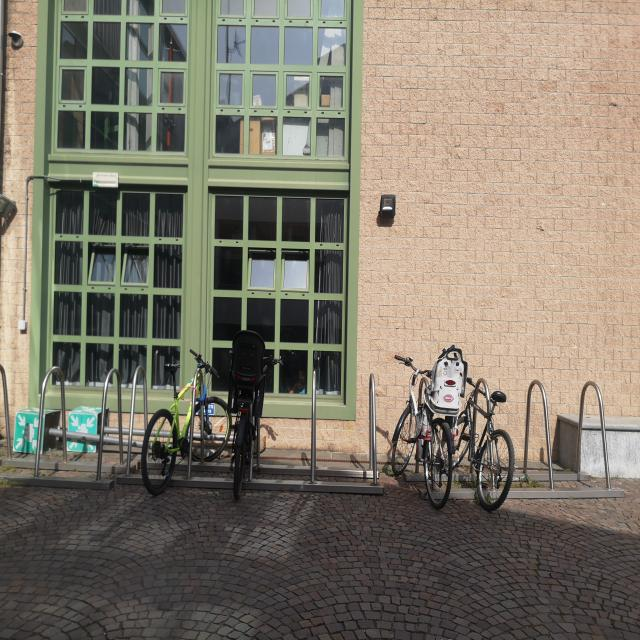Bicycle: (144, 339, 228, 499), (226, 342, 299, 503), (394, 349, 466, 498), (464, 366, 517, 519)
